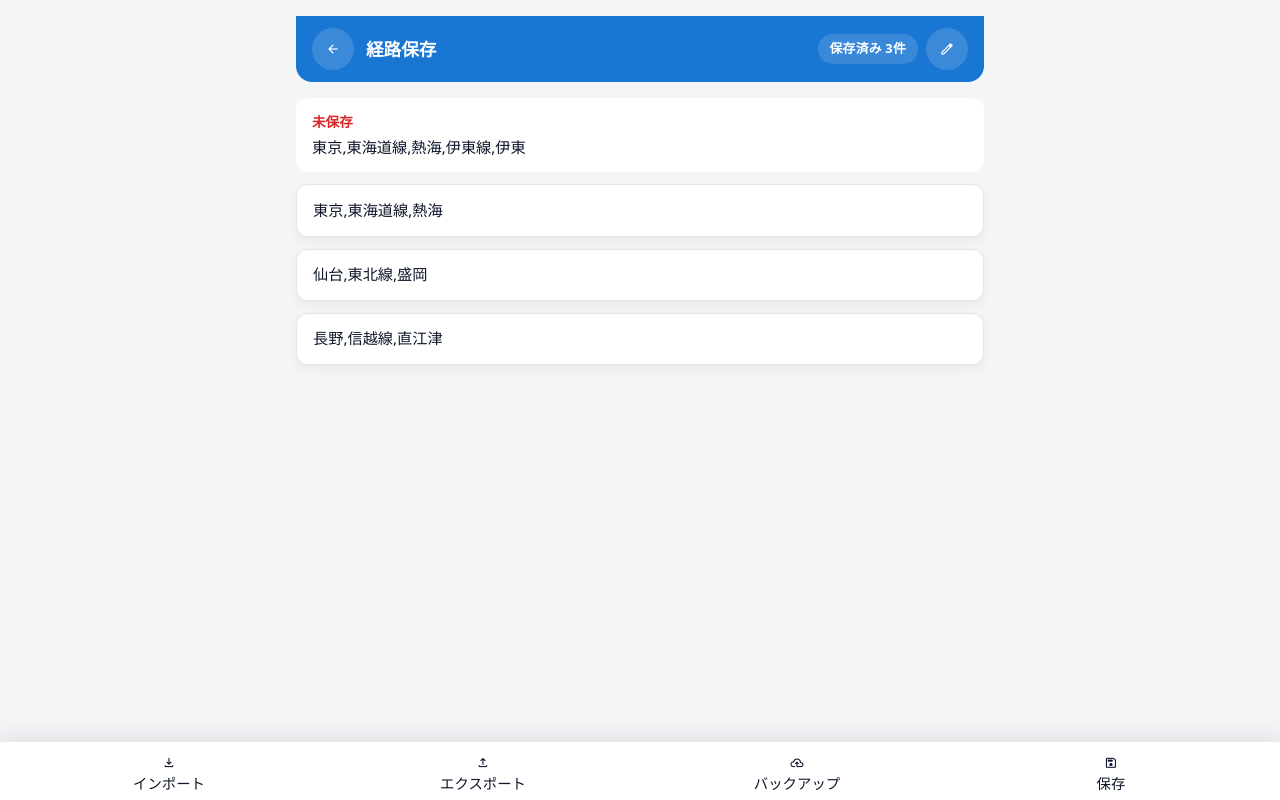
Test: /save/+page.svelte › 経路が2区間以上あるとき保存経路選択で確認し、Yesなら適用する
Click the button "仙台,東北線,盛岡" at (370, 274), box [296,248,984,301]
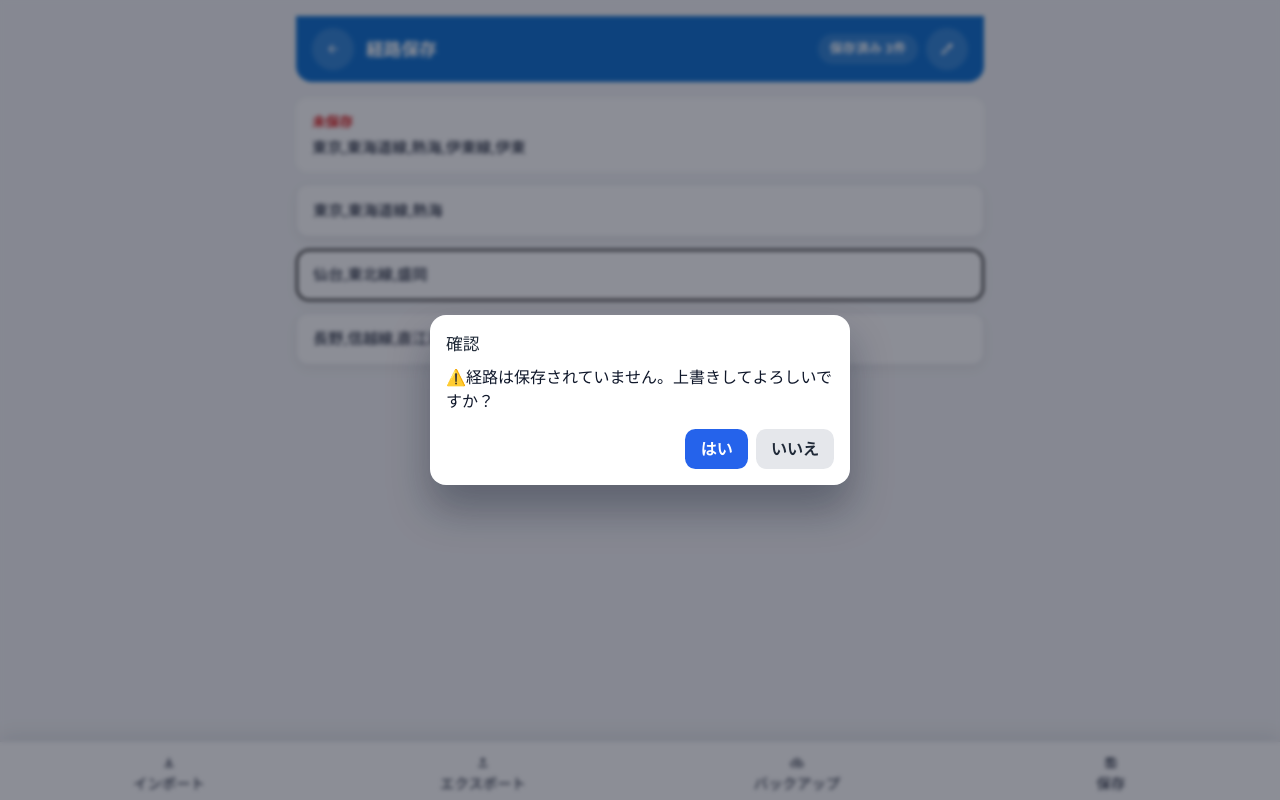
Click the button "はい" at (716, 449), box [685,429,748,469]
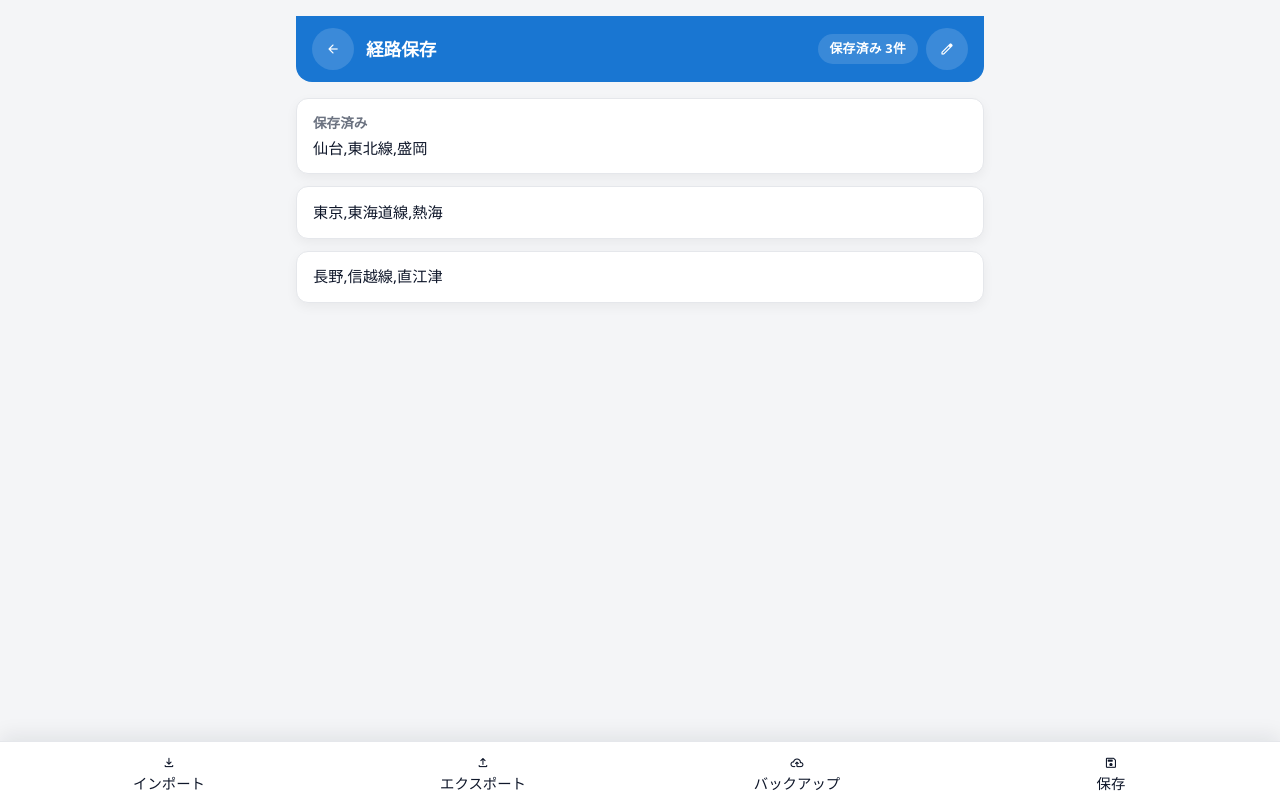
Expected: the text "仙台,東北線,盛岡" is shown, [313,138,428,158]
